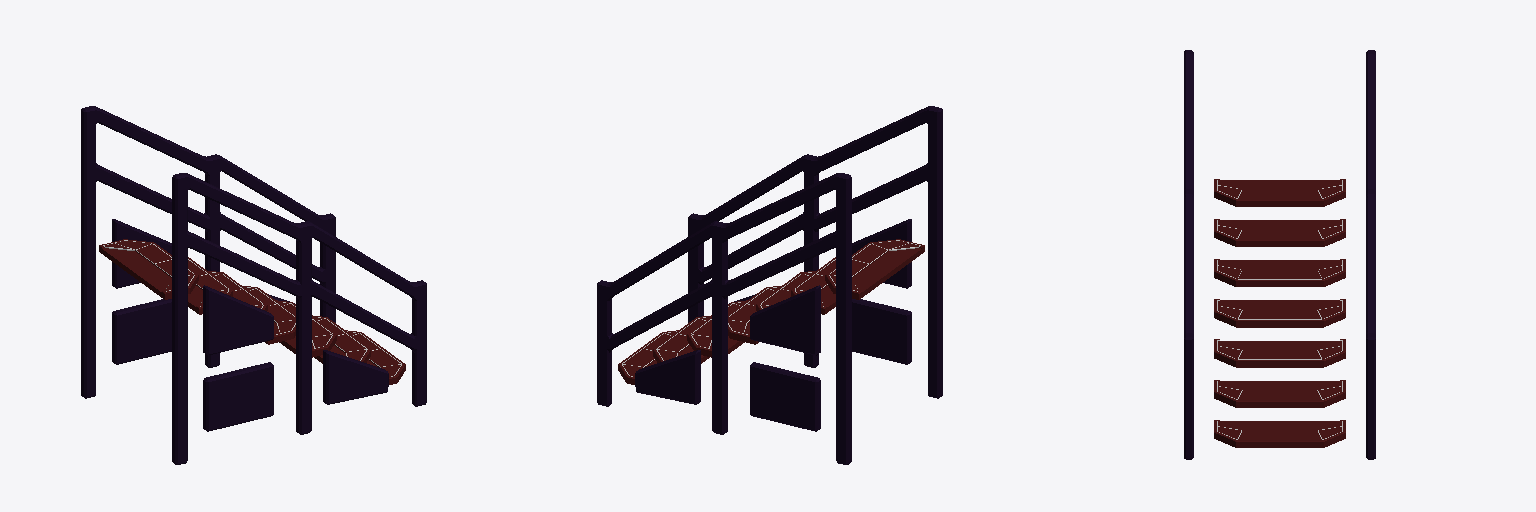
Rendered from stairs1.obj.
3 views of the same model, side by side, from view 1: azimuth 30°, elevation 25°; view 2: azimuth 150°, elevation 25°; view 3: azimuth 270°, elevation 25° (orthographic).
Parts seen in each view (by area): view 1: Plane, Plane.001_Plane.002; view 2: Plane, Plane.001_Plane.002; view 3: Plane.001_Plane.002, Plane.
Boxes of the visible parts, x1=… form: Plane: x1=81, y1=106, x2=426, y2=464; Plane.001_Plane.002: x1=99, y1=239, x2=405, y2=384; Plane: x1=597, y1=106, x2=942, y2=464; Plane.001_Plane.002: x1=618, y1=239, x2=924, y2=384; Plane.001_Plane.002: x1=1214, y1=179, x2=1345, y2=447; Plane: x1=1184, y1=50, x2=1375, y2=459.
Size of the model in its own units: 2.18 by 2.35 by 1.42.